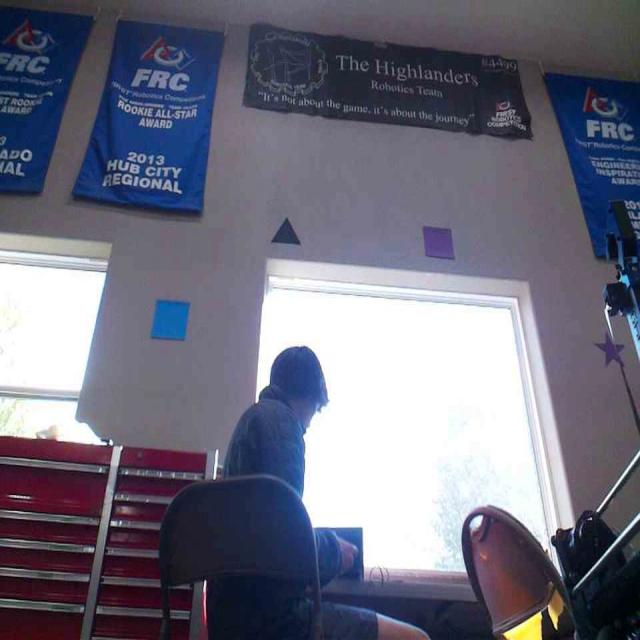square_blue: (148, 298, 191, 339)
square_purple: (420, 226, 455, 258)
star_purple: (592, 331, 626, 366)
triangle_black: (268, 216, 301, 244)
